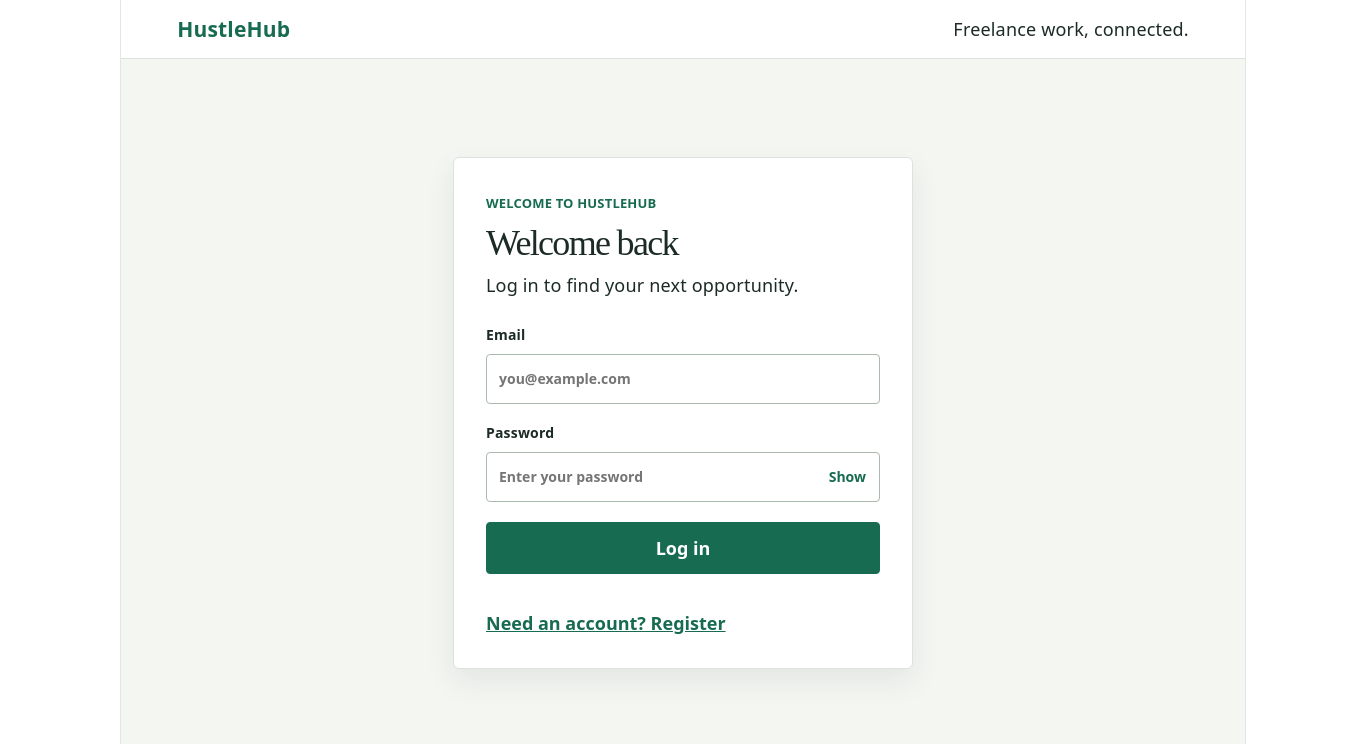
Test: App authentication screens › renders the login form and switches to registration
Expected: the heading "Welcome back" is shown, [486,223,678,263]
Expected: the field labelled "Full name" is not shown
Click the button "Need an account? Register" at (606, 623), box [486,610,726,636]
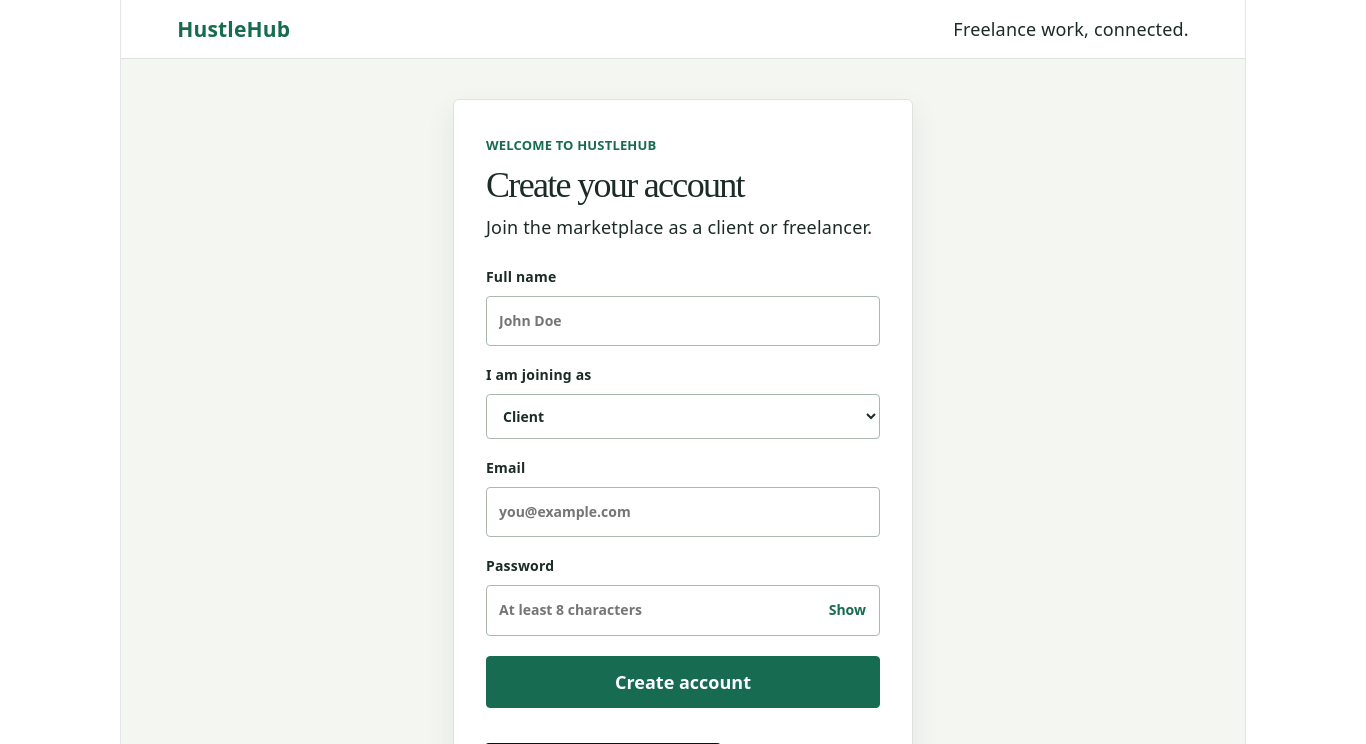
Expected: the heading "Create your account" is shown, [486,165,744,205]
Expected: the dropdown labelled "I am joining as" shows "Client", [486,394,880,439]
